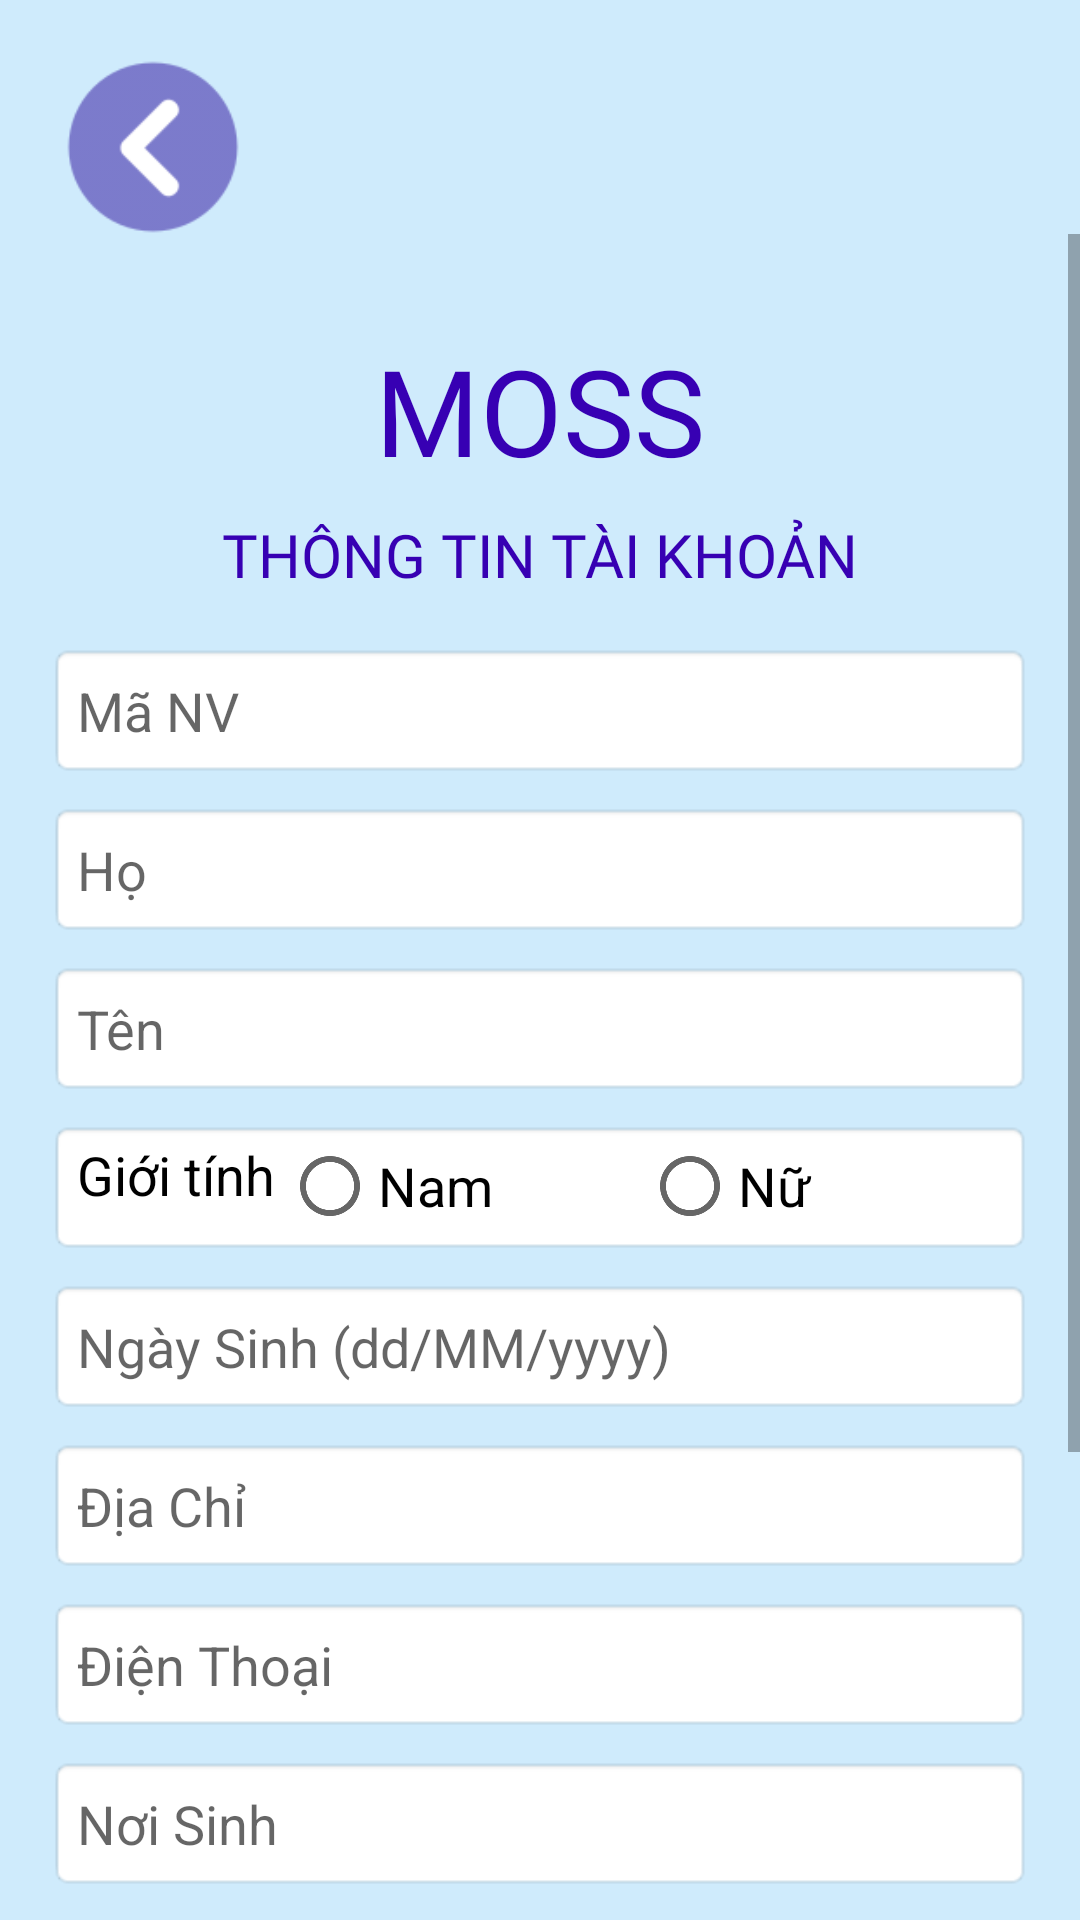

Locate icon controls on the screen. Image size 1080px×1920px, boxes as {"left": x1, "top": y1, "right": x2, "bottom": y2}.
back: {"left": 68, "top": 62, "right": 238, "bottom": 232}
